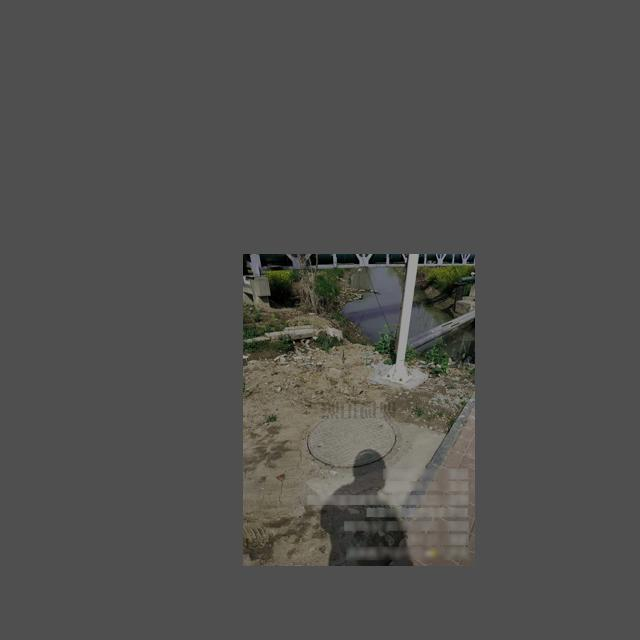good: (304, 410, 402, 474)
